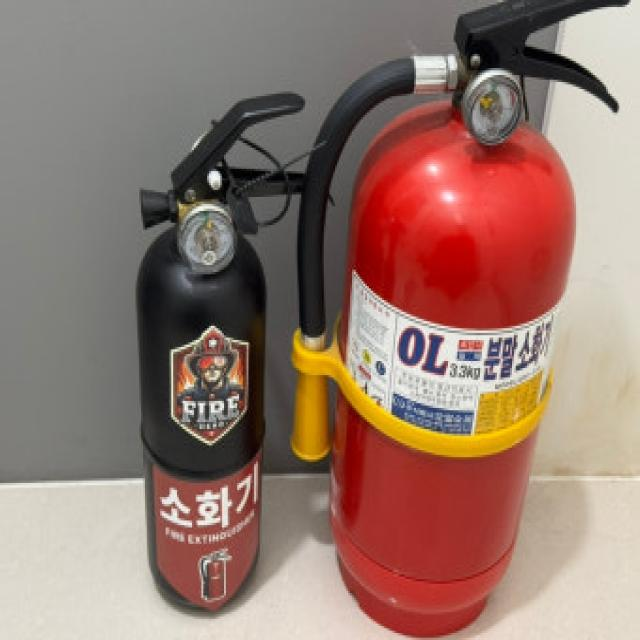pressure gauge: (463, 70, 521, 143), (181, 204, 233, 272)
